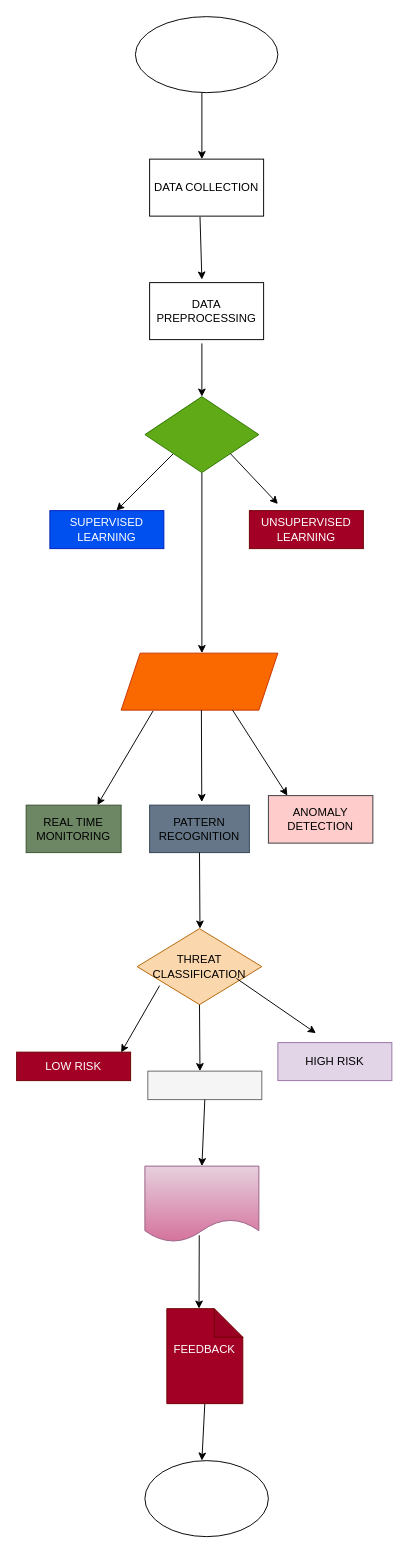
This 409x1553 diagram has some shape labels left out. Each missing label, with the centre of its shape:
"AI/ML MODEL TRAINING" belongs at (201,434).
"END" belongs at (206,1498).
"MEDIUM RISK" belongs at (204,1085).
"RESPONSE" belongs at (201,1203).
"START" belongs at (206,54).
"THREAT DETECTION ENGINE" belongs at (199,681).
